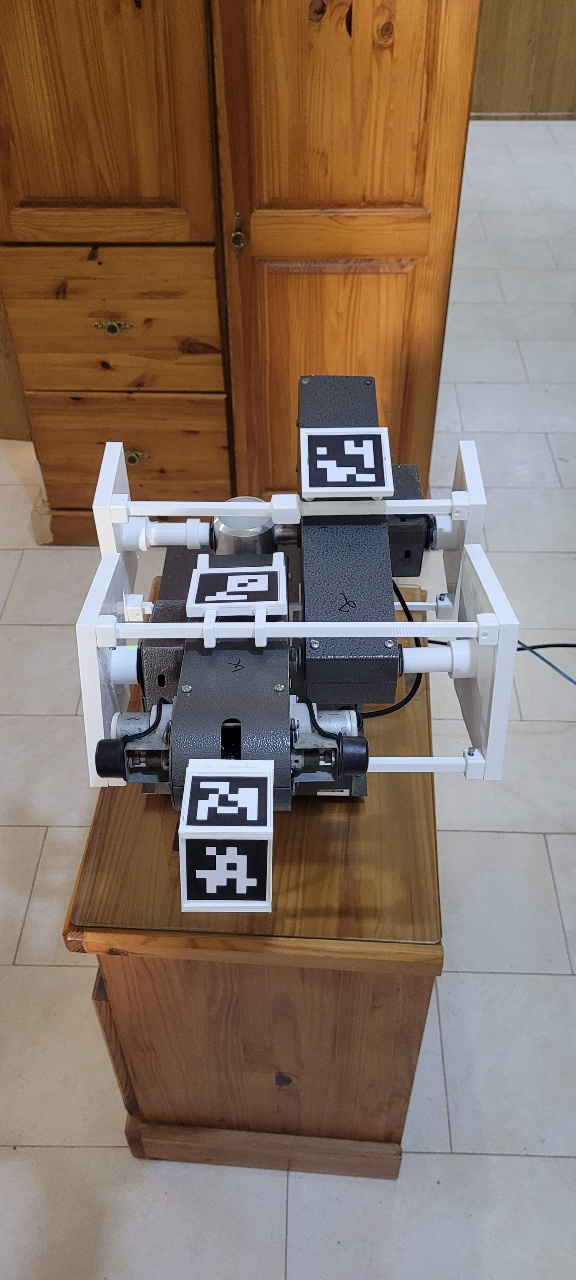Robot: (10, 191, 510, 907)
